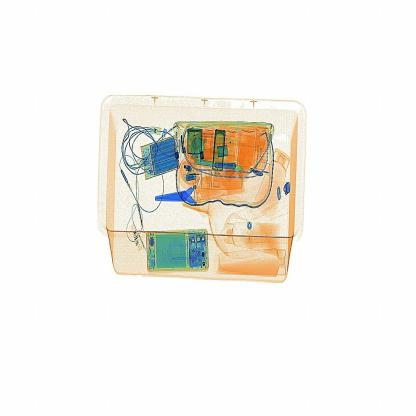gun: (154, 172, 223, 224)
